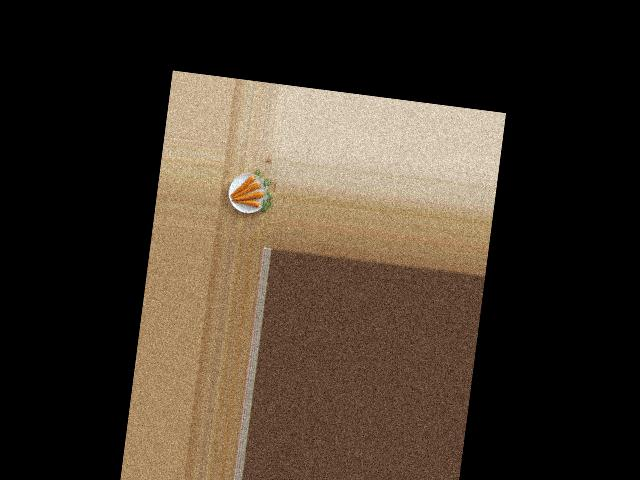carrot: (229, 171, 257, 198)
